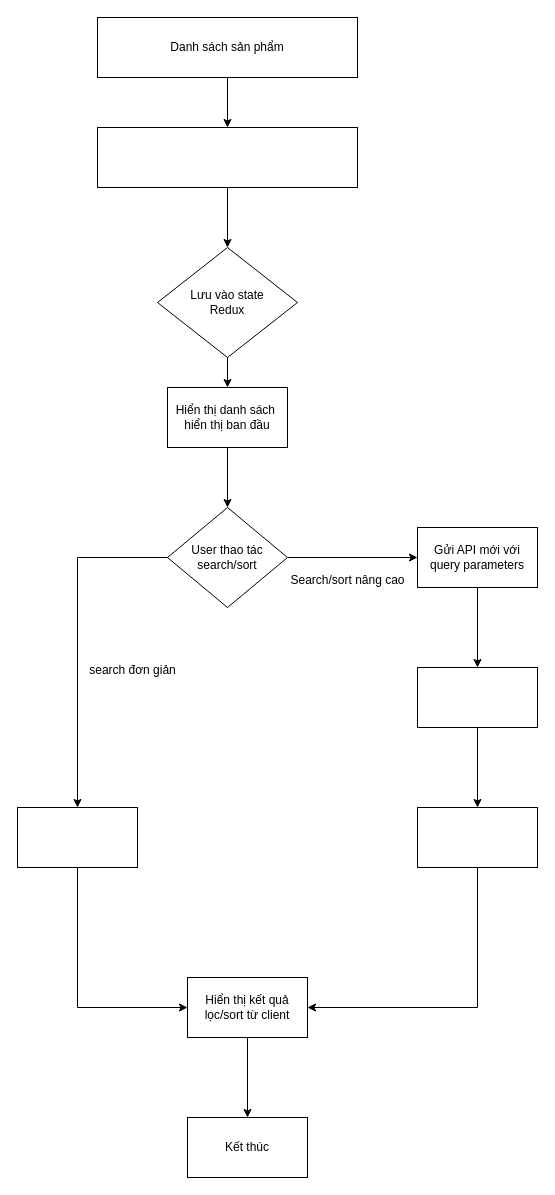
This 555x1195 diagram has some shape labels left out. Here are the shapes that lost their labels. From the top down, the centre of each, then its label:
At point (227, 157): "Load toàn bộ sản phẩm".
At point (477, 697): "Backend xử lý trả kết quả mới".
At point (77, 837): "Lọc client-side từ state hiện có".
At point (477, 837): "Cập nhật state với kết quả mới".
